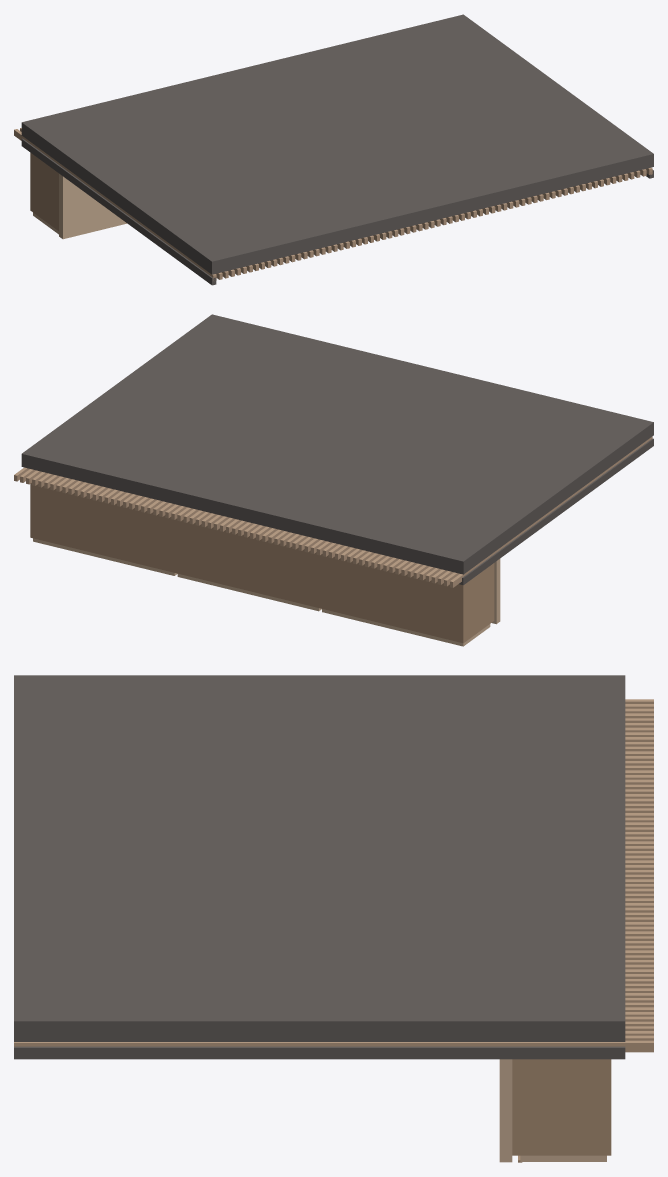
Rendered from slatted-tv-wall-unit.glb.
3 views of the same model, one above another, from view 1: azimuth 30°, elevation 25°; view 2: azimuth 150°, elevation 25°; view 3: azimuth 270°, elevation 25° (orthographic). The views are drawn at different scales.
Parts seen in each view (by area): view 1: dark slatted feature wall backing, vertical timber slat 001, console wood top, floating console cabinet carcass; view 2: dark slatted feature wall backing, floating console cabinet carcass, vertical timber slat 001, console wood top; view 3: dark slatted feature wall backing, vertical timber slat 001, floating console cabinet carcass, console wood top.
Boxes of the visible parts, x1=… form: dark slatted feature wall backing: x1=21, y1=14, x2=653, y2=285; vertical timber slat 001: x1=14, y1=128, x2=652, y2=280; console wood top: x1=33, y1=173, x2=126, y2=239; floating console cabinet carcass: x1=30, y1=152, x2=58, y2=230; dark slatted feature wall backing: x1=21, y1=314, x2=653, y2=585; floating console cabinet carcass: x1=30, y1=483, x2=494, y2=643; vertical timber slat 001: x1=14, y1=436, x2=652, y2=587; console wood top: x1=33, y1=538, x2=500, y2=646; dark slatted feature wall backing: x1=14, y1=675, x2=625, y2=1059; vertical timber slat 001: x1=14, y1=699, x2=653, y2=1052; floating console cabinet carcass: x1=512, y1=1059, x2=611, y2=1162; console wood top: x1=499, y1=1059, x2=606, y2=1162.
Bounding box in the file's own units: 3.55 × 0.705 × 2.77.
